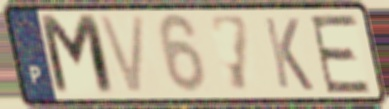6: (155, 10, 212, 99)
7: (207, 12, 252, 96)
E: (307, 12, 374, 96)
K: (261, 15, 317, 94)
M: (35, 12, 120, 99)
V: (94, 12, 149, 98)
